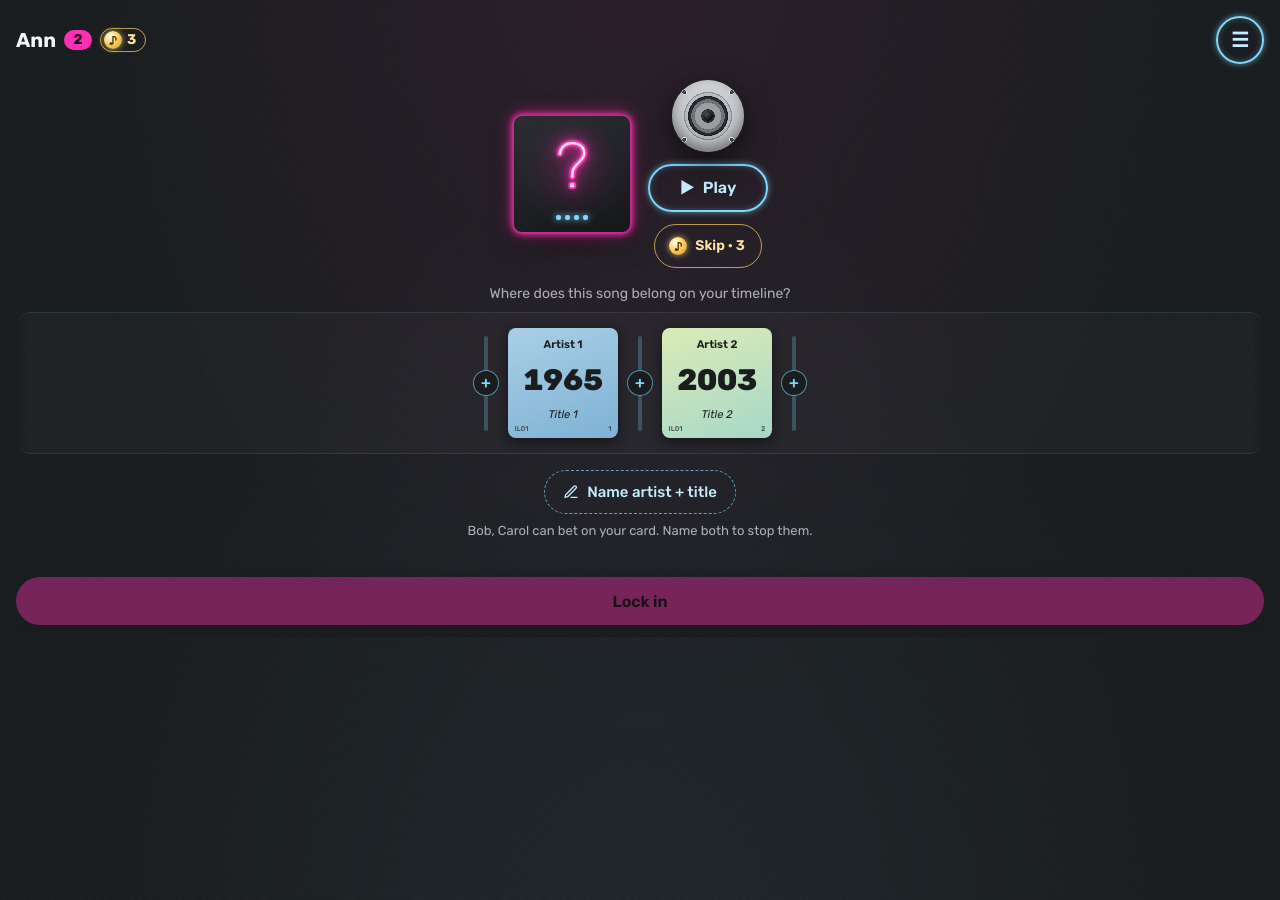
GameScreen with tokens and bets: the turn › Lock in with nothing typed sends no guess and opens the bets
The width and height of the screenshot is (1280, 900).
Click the 3rd button with test id "timeline-slot" at point(794, 383), box [772, 324, 816, 442]
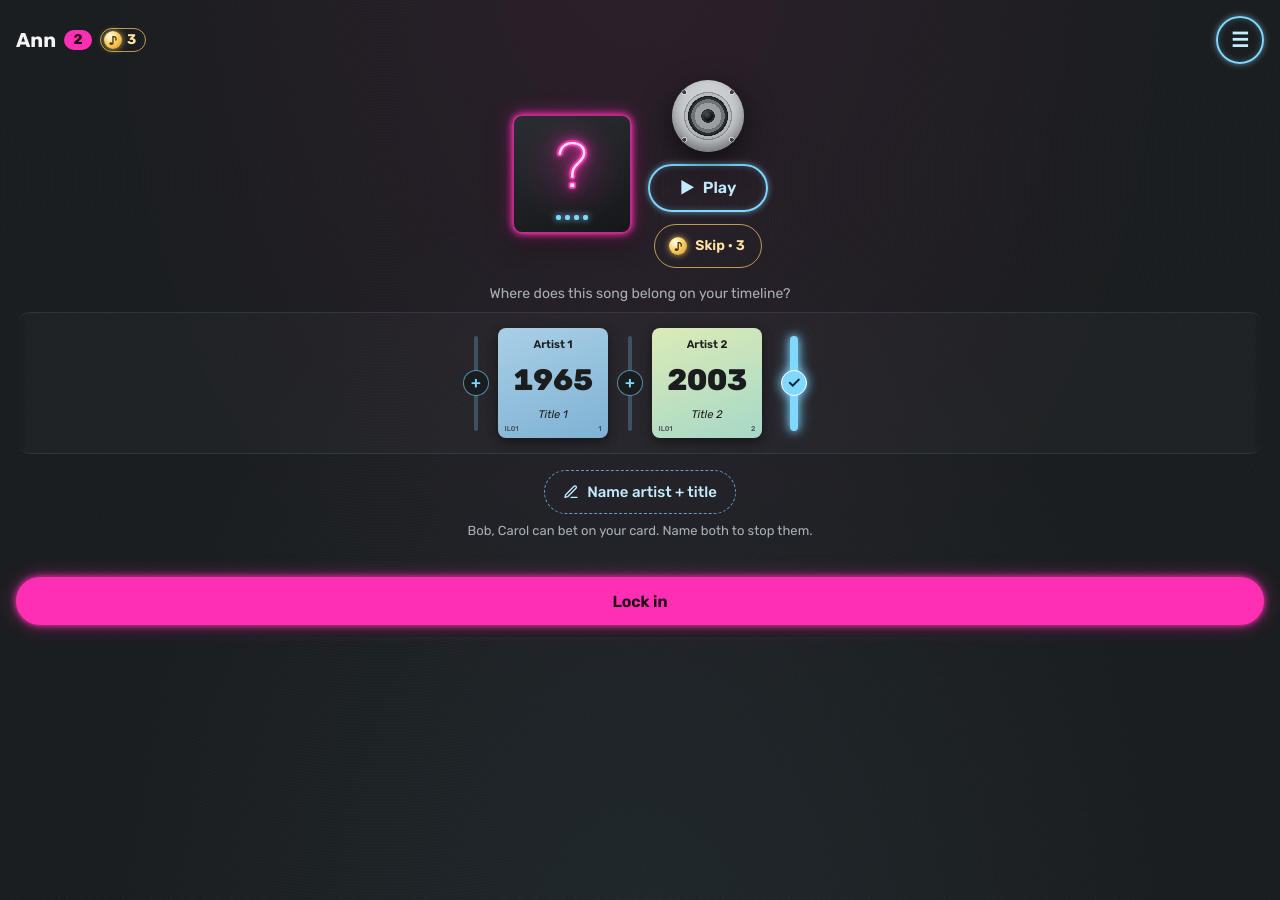
Click the button with test id "btn-lock-in" at point(640, 601), box [16, 577, 1264, 625]
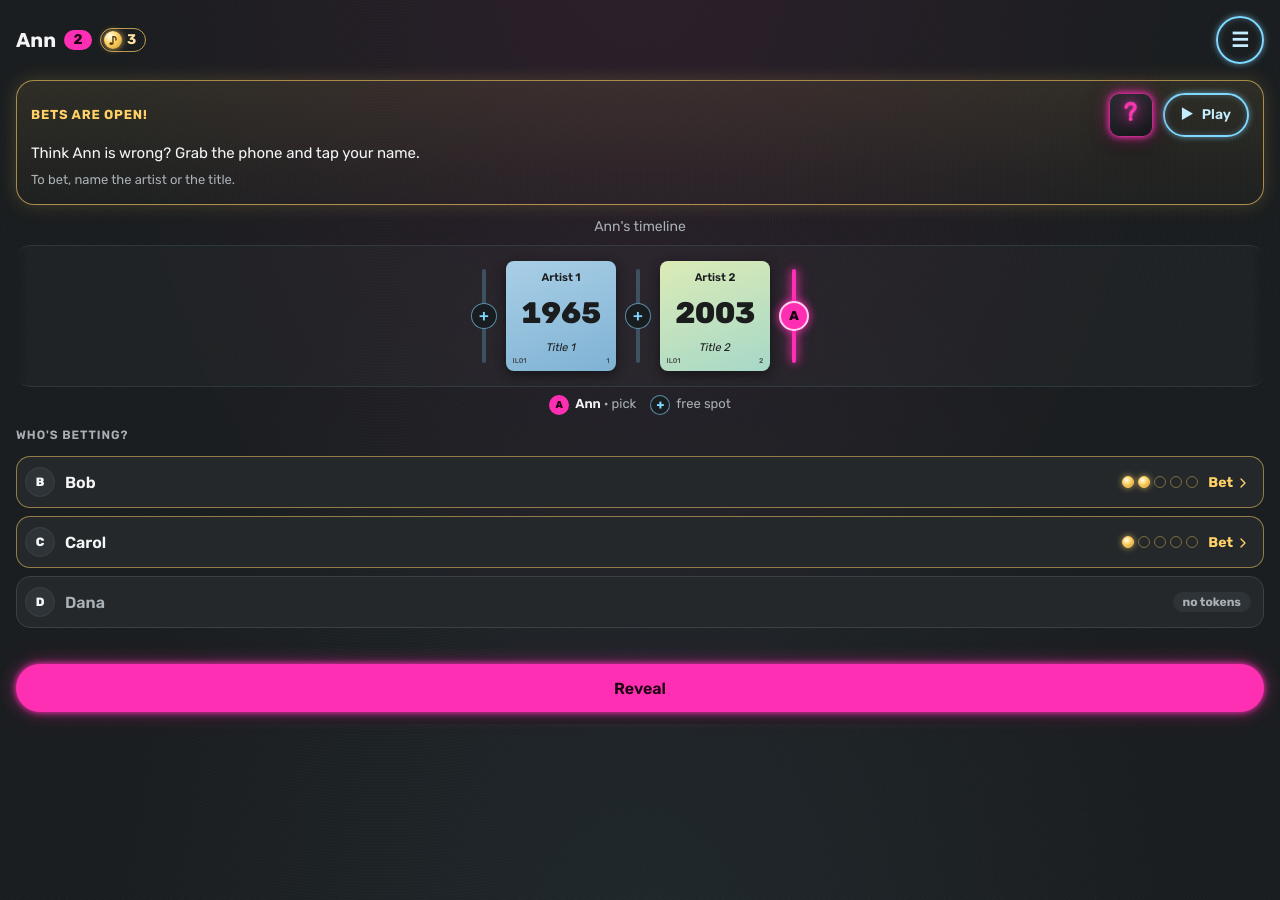
Result: the element with test id "bet-panel" shows "Bets are open!" at [31, 107, 148, 122]
Result: the element with test id "bet-panel" shows "Think Ann is wrong? Grab the phone and tap your name."
